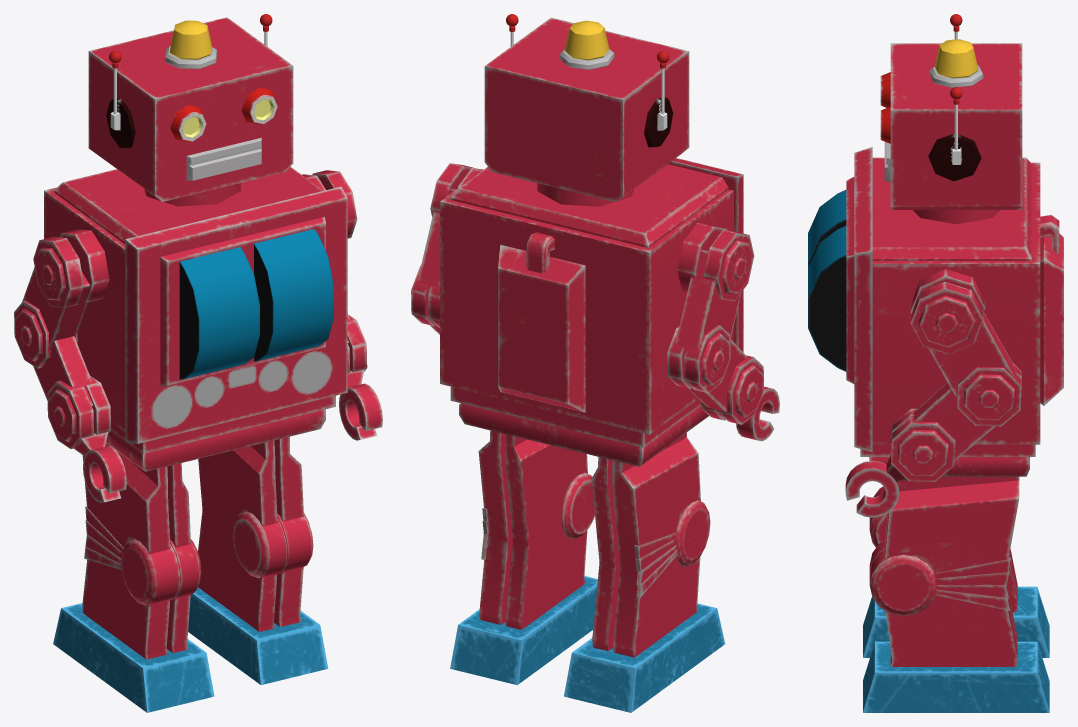
The model's file is robot.glb.
3 views of the same model, side by side, from view 1: azimuth 30°, elevation 25°; view 2: azimuth 150°, elevation 25°; view 3: azimuth 270°, elevation 25° (orthographic).
Visible parts, largest first — view 1: _legs_low, _body_front_cover_low, _head_low, _hands_low, _foots_low, _front_02_low, _ftont_01_low, _body_top_cover_low, _body_low, _front_low, _btm_low, _btm2_low (+7 smaller); view 2: _legs_low, _body_low, _head_low, _hands_low, _foots_low, _back_01_low, _body_top_cover_low, _btm_low, _btm2_low, _body_front_cover_low, _years_low, _top_low (+3 smaller); view 3: _legs_low, _hands_low, _head_low, _body_low, _foots_low, _body_top_cover_low, _body_front_cover_low, _ftont_01_low, _back_01_low, _years_low, _front_low, _btm_low (+6 smaller).
Part boxes in pixels (left/top/right/bottom): _legs_low: left=82, top=436, right=313, bottom=659; _body_front_cover_low: left=125, top=186, right=347, bottom=443; _head_low: left=88, top=17, right=293, bottom=201; _hands_low: left=14, top=170, right=382, bottom=502; _foots_low: left=53, top=587, right=328, bottom=712; _front_02_low: left=179, top=247, right=259, bottom=379; _ftont_01_low: left=254, top=229, right=333, bottom=361; _body_top_cover_low: left=54, top=167, right=321, bottom=243; _body_low: left=44, top=167, right=323, bottom=431; _front_low: left=160, top=217, right=325, bottom=386; _btm_low: left=106, top=409, right=325, bottom=471; _btm2_low: left=111, top=395, right=335, bottom=453; _legs_low: left=478, top=430, right=710, bottom=657; _body_low: left=440, top=167, right=733, bottom=434; _head_low: left=484, top=17, right=689, bottom=201; _hands_low: left=411, top=163, right=779, bottom=441; _foots_low: left=450, top=576, right=725, bottom=712; _back_01_low: left=498, top=244, right=585, bottom=412; _body_top_cover_low: left=450, top=164, right=728, bottom=247; _btm_low: left=459, top=403, right=708, bottom=466; _btm2_low: left=450, top=386, right=700, bottom=447; _body_front_cover_low: left=668, top=158, right=743, bottom=352; _years_low: left=506, top=14, right=673, bottom=147; _top_low: left=564, top=20, right=609, bottom=60; _legs_low: left=869, top=476, right=1019, bottom=666; _hands_low: left=845, top=269, right=1021, bottom=517; _head_low: left=890, top=43, right=1022, bottom=209; _body_low: left=872, top=162, right=1040, bottom=444; _foots_low: left=863, top=586, right=1049, bottom=712; _body_top_cover_low: left=872, top=157, right=1031, bottom=260; _body_front_cover_low: left=854, top=147, right=872, bottom=452; _ftont_01_low: left=808, top=225, right=846, bottom=371; _back_01_low: left=1040, top=233, right=1063, bottom=405; _years_low: left=928, top=14, right=981, bottom=181; _front_low: left=846, top=177, right=854, bottom=383; _btm_low: left=869, top=457, right=1029, bottom=476.
Size of the model in its own units: 6.63 by 13.5 by 4.98.
1 material, 1 textured.
